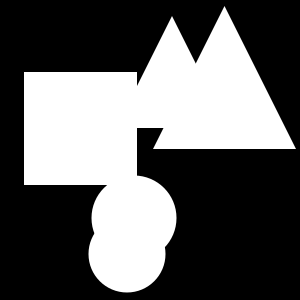circle: (24, 72, 137, 185)
rectangle: (92, 176, 176, 260), (89, 216, 166, 292)
triangle: (153, 6, 296, 149), (116, 16, 228, 128)
